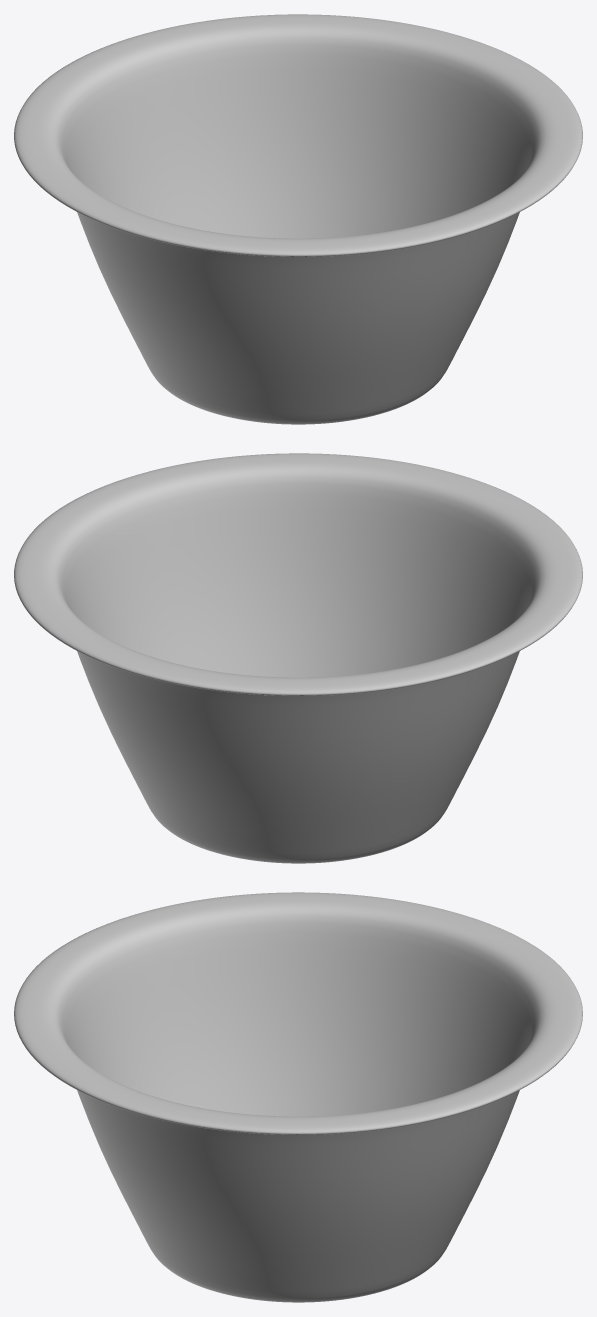
File: chau.fbx
The picture shows the model from 3 angles, top to bottom: view 1: azimuth 30°, elevation 25°; view 2: azimuth 150°, elevation 25°; view 3: azimuth 270°, elevation 25°; orthographic projection.
Visible parts, largest first — view 1: Chau; view 2: Chau; view 3: Chau.
Part boxes in pixels (x1,y1,x2,y2): Chau: (14,14,582,424); Chau: (14,453,582,863); Chau: (14,892,582,1302).
Bounding box in the file's own units: 10.11 × 4.56 × 10.11.
Materials: 1 (1 with a texture image).
